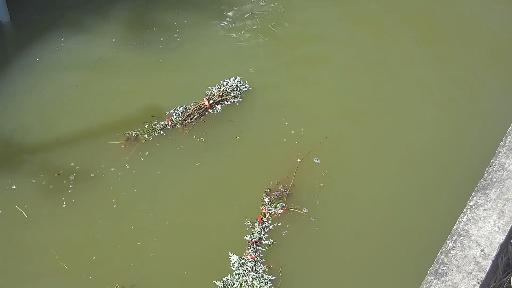twig: (197, 129, 340, 288), (105, 74, 251, 152)
